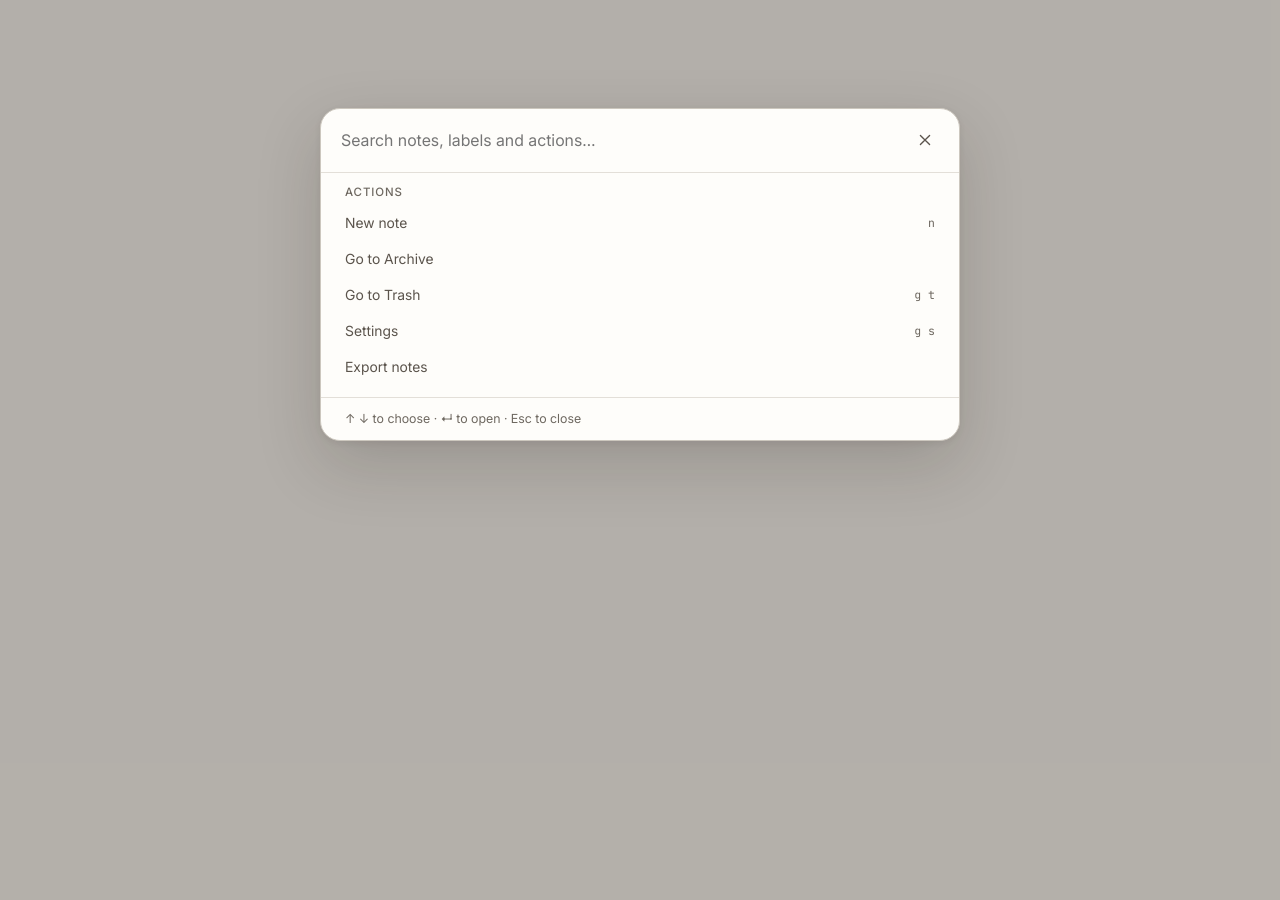
forgets an in-flight answer when the search question changes
Type "What did I decide?" into the field named "Search and commands" at [612, 140], box [321,109,903,172]
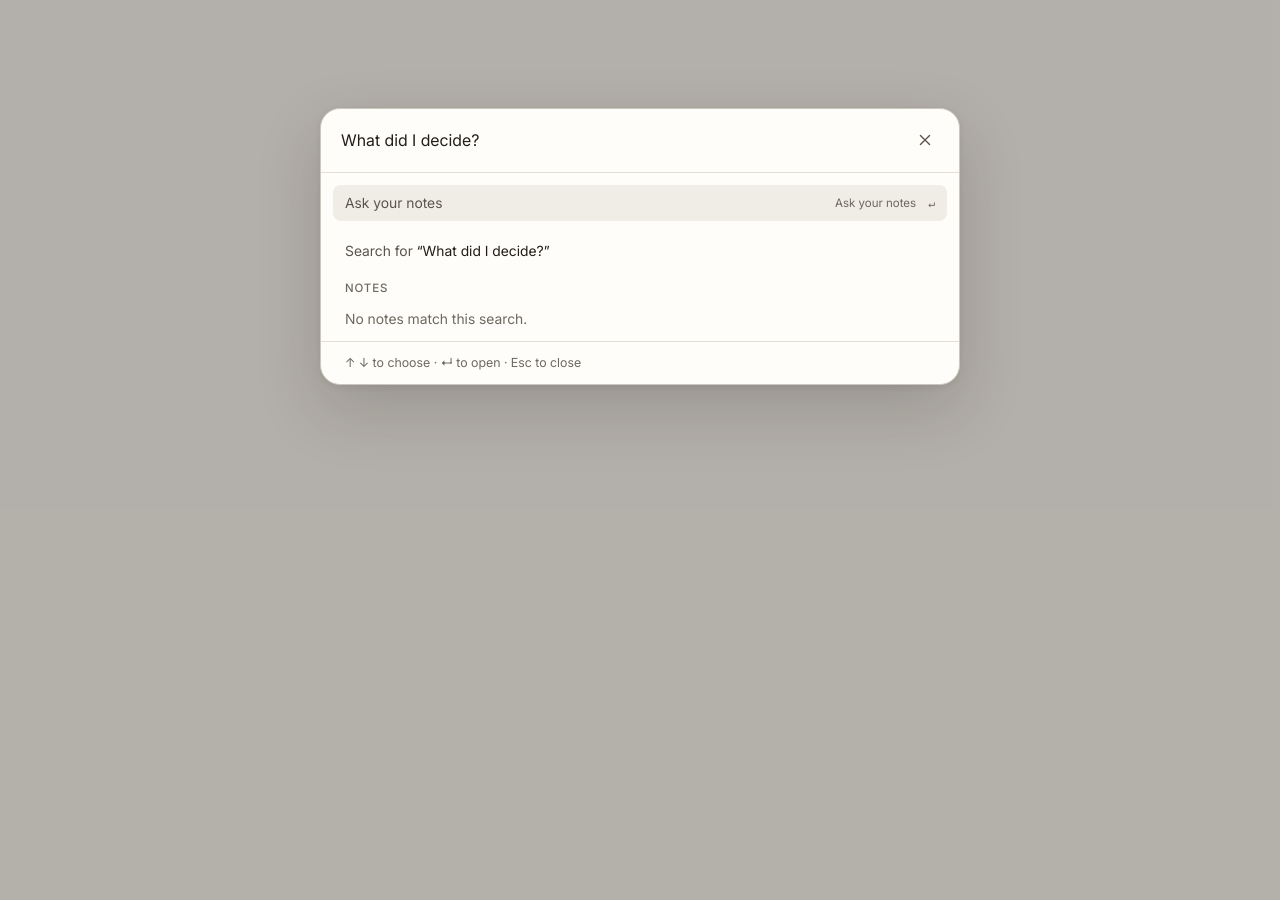
Click the option "Ask your notes Ask your notes" at [394, 202], box [333,185,947,221]
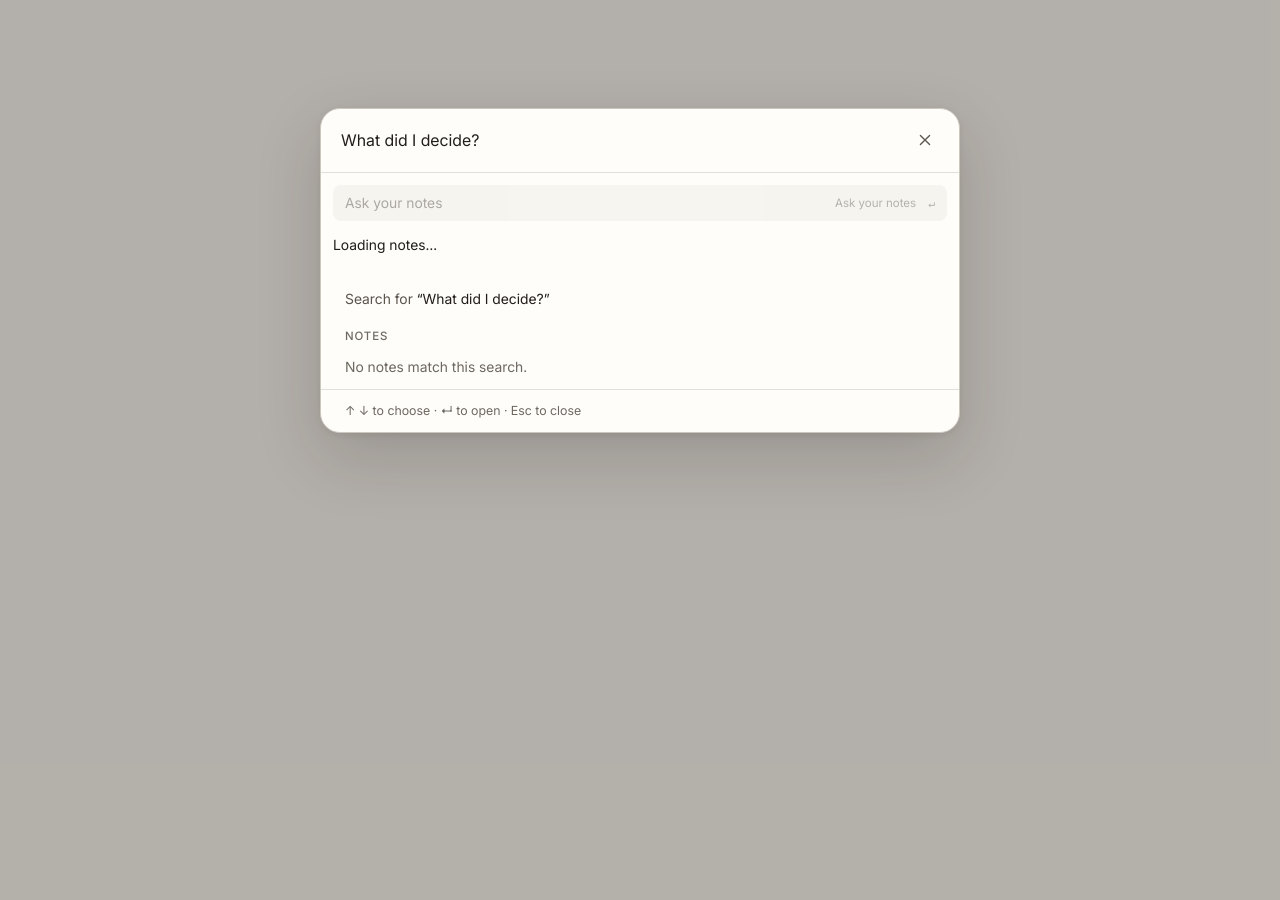
Check: the message "Loading notes…" is shown, box [333,236,437,253]
Replace the text in the field named "Search and commands" with "What about next year?" at [612, 140], box [321,109,903,172]
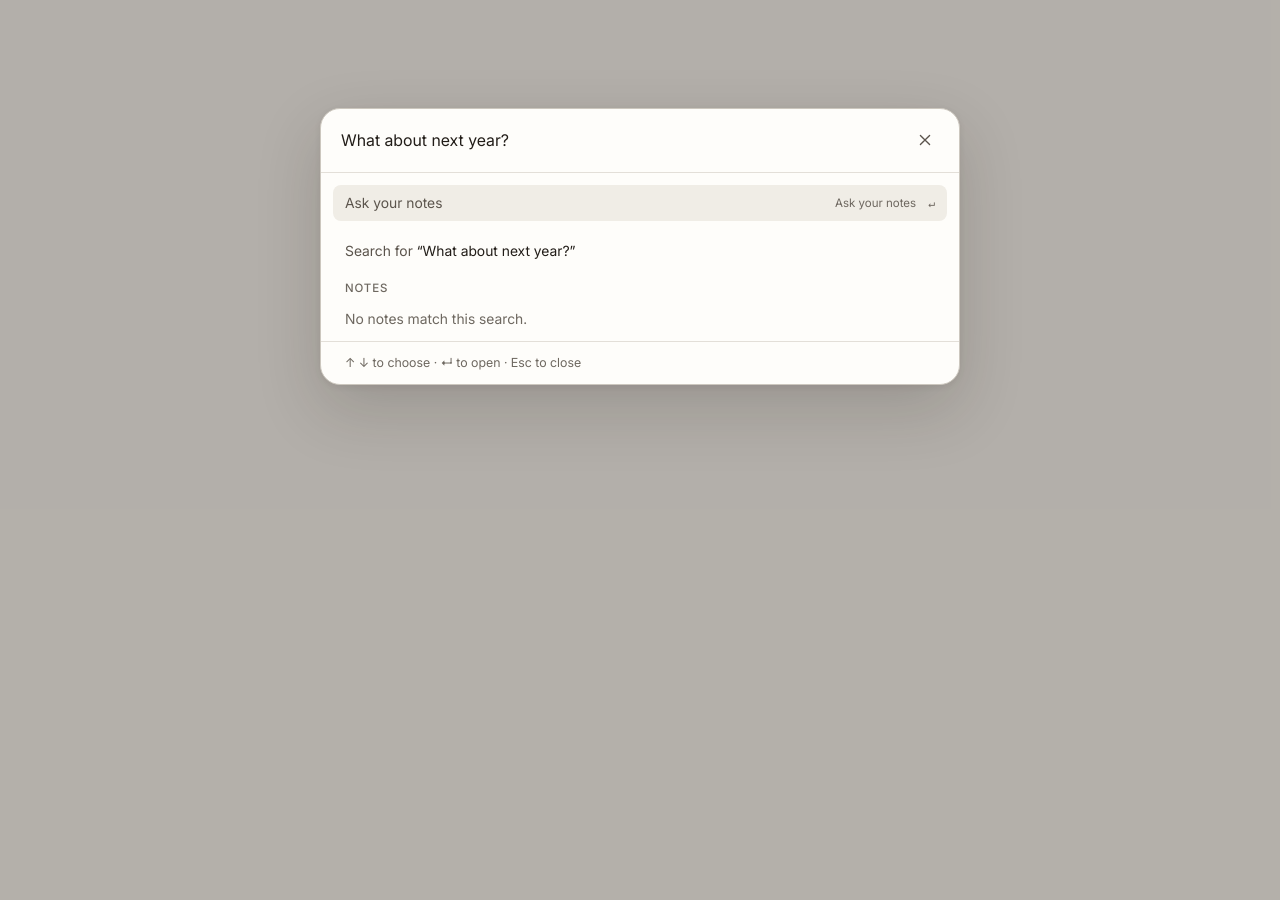
Check: the option "Ask your notes Ask your notes" is enabled, box [333,185,947,221]
